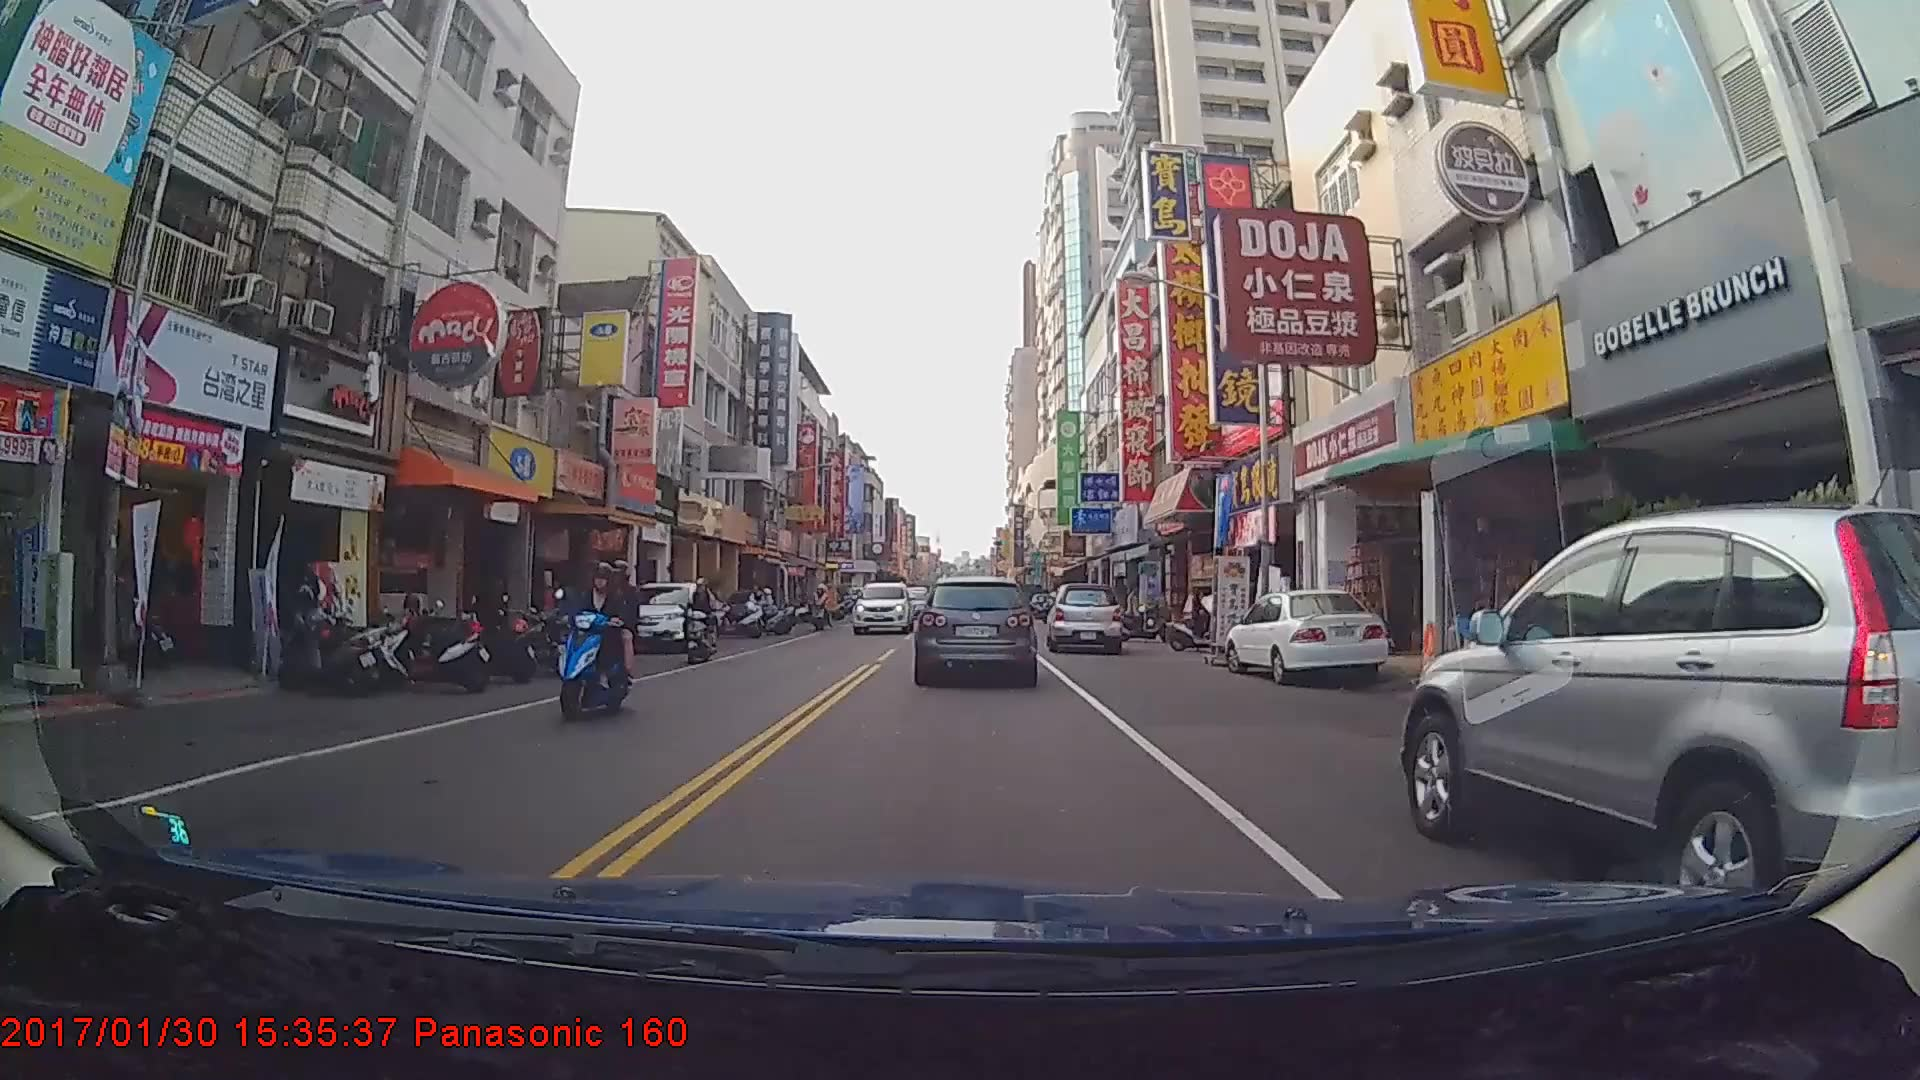rider: (555, 551, 640, 726), (1169, 585, 1231, 653), (684, 571, 720, 660)
vehicle: (1402, 507, 1920, 956), (1225, 585, 1389, 681), (916, 576, 1037, 683), (606, 580, 721, 653), (1045, 581, 1122, 652), (850, 580, 916, 635)
